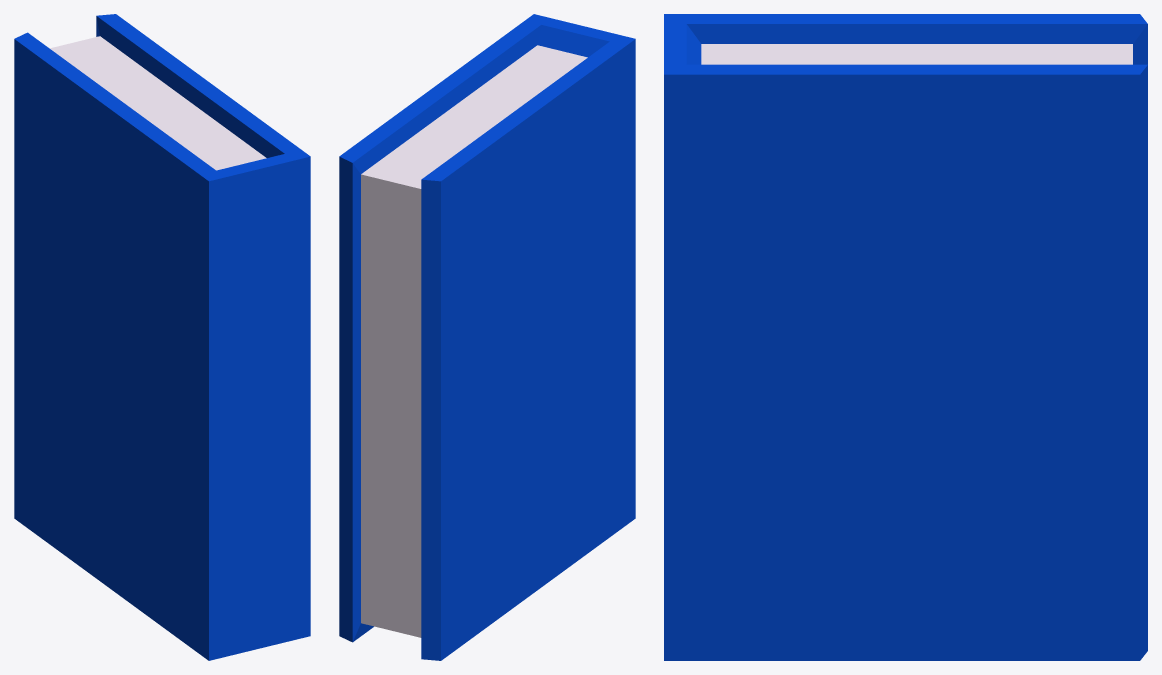
The model's file is book.fbx.
The picture shows the model from 3 angles, left to right: view 1: azimuth 30°, elevation 25°; view 2: azimuth 150°, elevation 25°; view 3: azimuth 270°, elevation 25°; orthographic projection. The views are drawn at different scales.
Parts seen in each view (by area): view 1: Cube.003; view 2: Cube.003; view 3: Cube.003.
Boxes of the visible parts, <box> form: Cube.003: <box>14,14,310,660</box>; Cube.003: <box>339,14,635,660</box>; Cube.003: <box>664,14,1147,660</box>.
Size of the model in its own units: 4.2 by 18.9 by 14.13.
